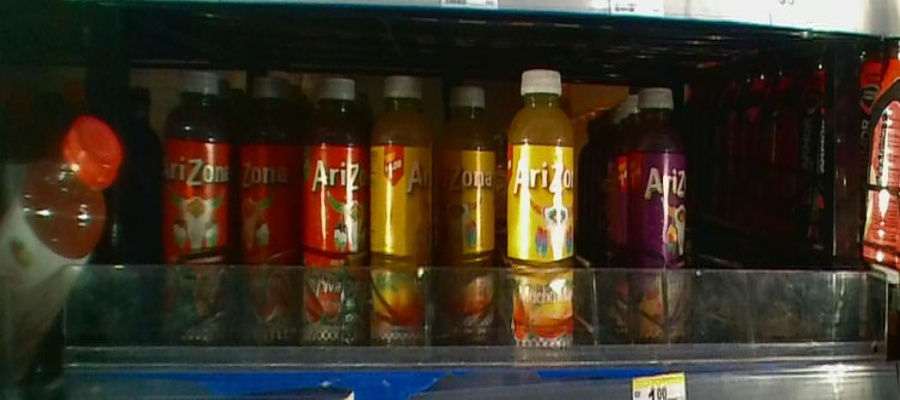bottle: (507, 65, 579, 360), (161, 61, 234, 348), (302, 73, 368, 347), (438, 74, 501, 350), (370, 78, 435, 339), (235, 69, 295, 350), (630, 84, 690, 349)
